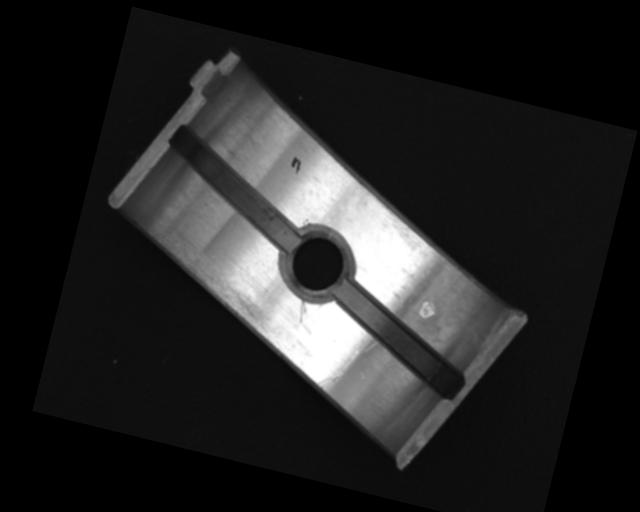blot: (288, 155, 304, 175)
bruise: (418, 298, 438, 321)
gap: (151, 125, 318, 252), (320, 282, 479, 398)
hole: (271, 219, 360, 305)
nick: (315, 340, 360, 396), (296, 298, 309, 324)
scratch: (133, 233, 281, 334)
